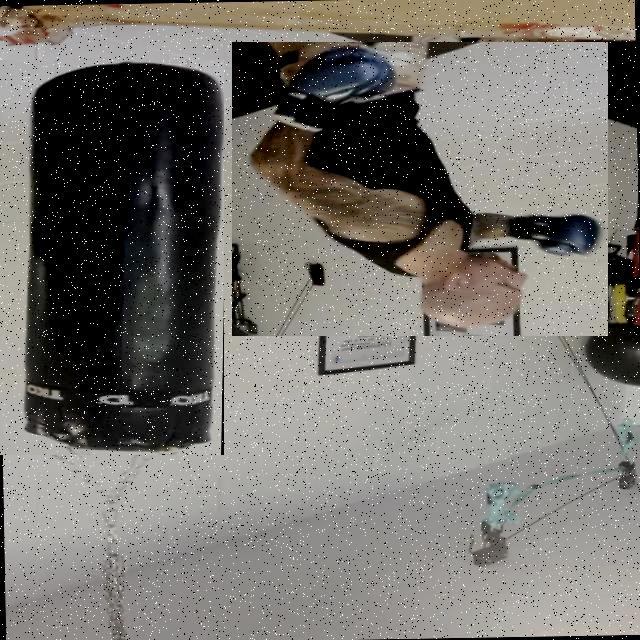punch: (232, 42, 608, 336)
